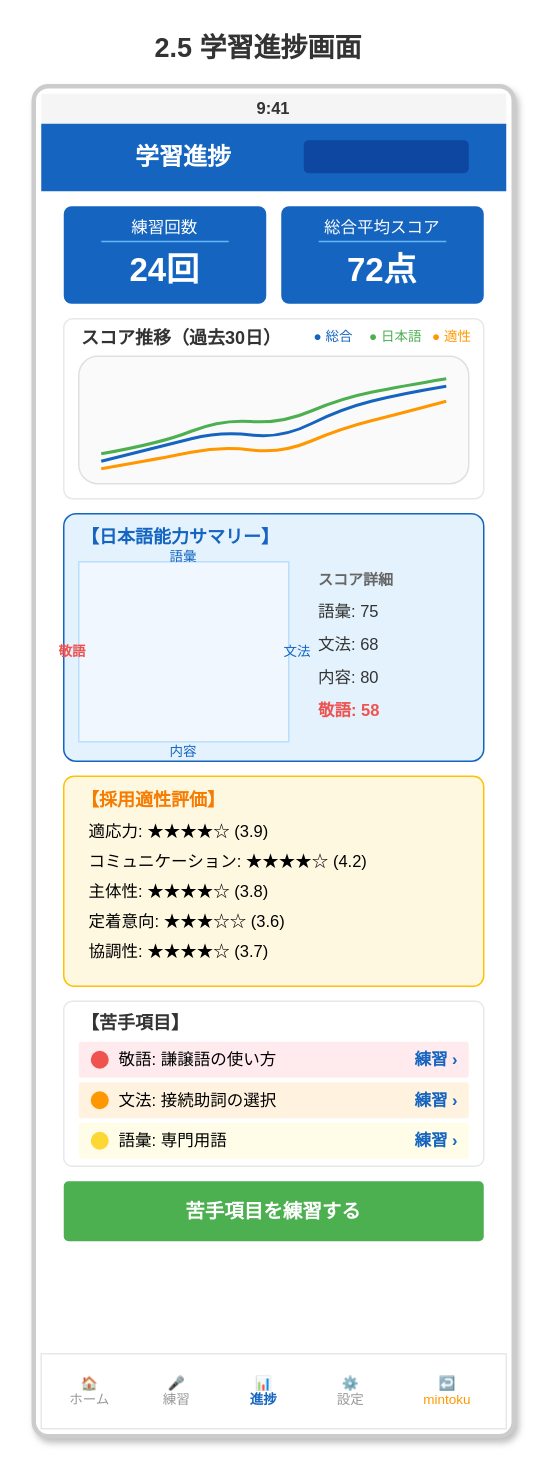
Image size: 551x1475. Some labels were removed from this diagram. The centre of each missing label's shape, as x and y in pixels:
"レーダーチャート" goes at (183,651).
"建設業界コース" goes at (385,156).
